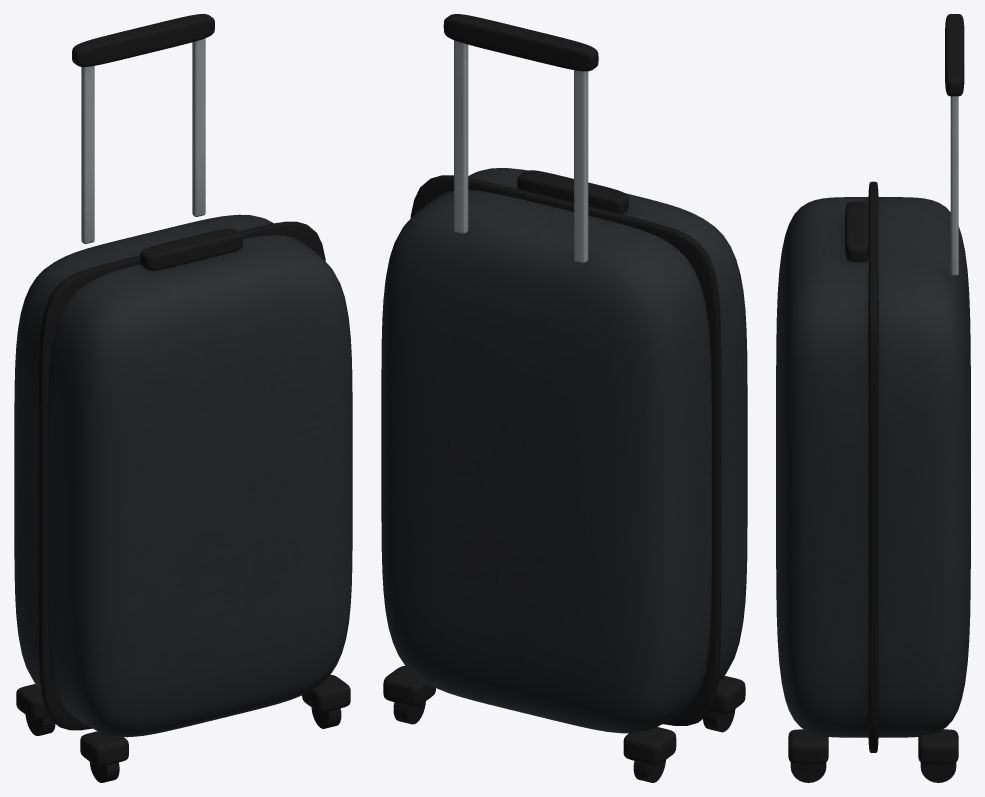
File: soft-black.glb
3 renders of one model, left to right at view 1: azimuth 30°, elevation 25°; view 2: azimuth 150°, elevation 25°; view 3: azimuth 270°, elevation 25°, orthographic. The views are drawn at different scales.
Visible parts, largest first — view 1: fabric_primary, trim_black, zip_black, aluminium, rubber; view 2: fabric_primary, trim_black, zip_black, aluminium, rubber; view 3: fabric_primary, zip_black, trim_black, aluminium, rubber.
Boxes of the visible parts, left/top/right/bottom form: fabric_primary: left=14, top=214, right=352, bottom=737; trim_black: left=16, top=14, right=350, bottom=766; zip_black: left=38, top=221, right=325, bottom=730; aluminium: left=81, top=38, right=205, bottom=243; rubber: left=25, top=708, right=341, bottom=782; fabric_primary: left=381, top=168, right=747, bottom=733; trim_black: left=383, top=14, right=745, bottom=764; zip_black: left=410, top=175, right=721, bottom=725; aluminium: left=454, top=40, right=588, bottom=262; rubber: left=393, top=701, right=735, bottom=782; fabric_primary: left=776, top=197, right=970, bottom=737; zip_black: left=868, top=181, right=878, bottom=752; trim_black: left=788, top=14, right=964, bottom=763; aluminium: left=950, top=96, right=958, bottom=275; rubber: left=790, top=762, right=956, bottom=782.
Bounding box in the file's own units: 0.414 × 0.925 × 0.24.
Materials: 5 (3 with a texture image).
